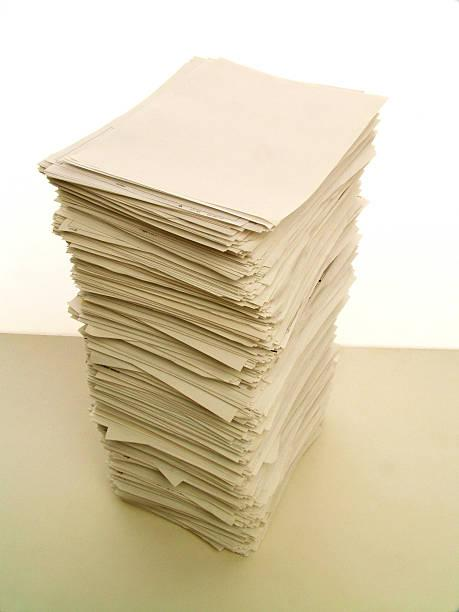paper: (29, 48, 392, 549)
